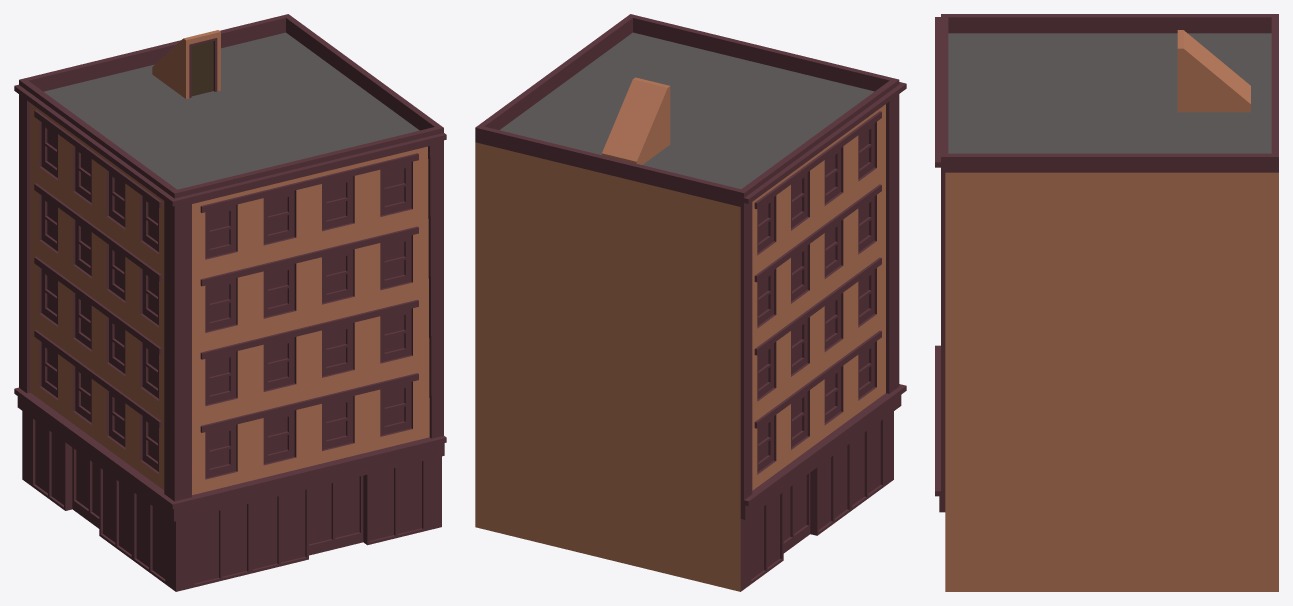
Rendered from Building 4 étages coin.fbx.
3 views of the same model, side by side, from view 1: azimuth 30°, elevation 25°; view 2: azimuth 150°, elevation 25°; view 3: azimuth 270°, elevation 25° (orthographic). The views are drawn at different scales.
Parts seen in each view (by area): view 1: building-block-4floor-corner; view 2: building-block-4floor-corner; view 3: building-block-4floor-corner.
Part boxes in pixels (<box>): building-block-4floor-corner: <box>14,14,446,591</box>; building-block-4floor-corner: <box>475,14,906,591</box>; building-block-4floor-corner: <box>935,14,1278,591</box>.
Size of the model in its own units: 1175 by 1820 by 1175.
